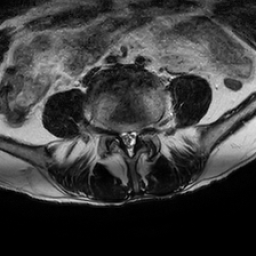CCS_normal: (125, 124, 132, 161)
LFS_severe_stenosis: (140, 121, 146, 137)
LLS_normal: (132, 125, 139, 147)
RFS_severe_stenosis: (110, 121, 118, 144)
RLS_normal: (118, 126, 125, 148)
